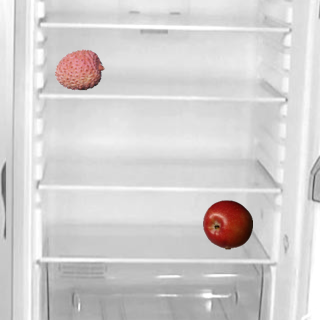Apple Braeburn: (202, 199, 252, 249)
Lychee: (54, 44, 104, 94)
